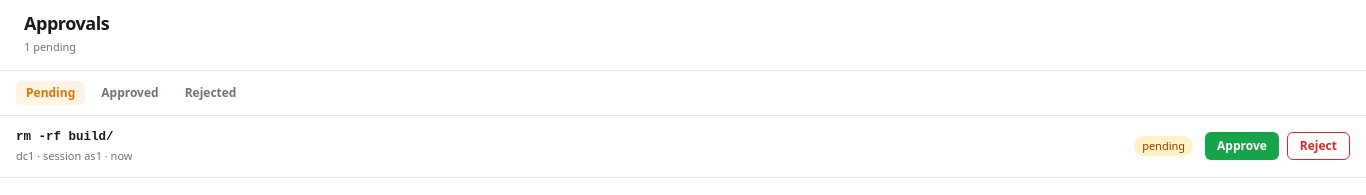
Test: Approvals actions › disables both controls while a request is in flight
Check: the text "rm -rf build/" is shown, box 16,130 -> 114,144
Click the button "Approve": (1242, 146) 1205,132 -> 1279,160
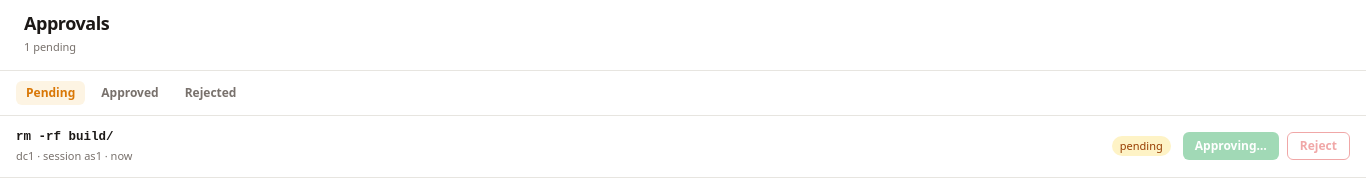
Check: the button "Approving…" is disabled, box 1183,132 -> 1279,160
Check: the button "Reject" is disabled, box 1287,132 -> 1350,160
